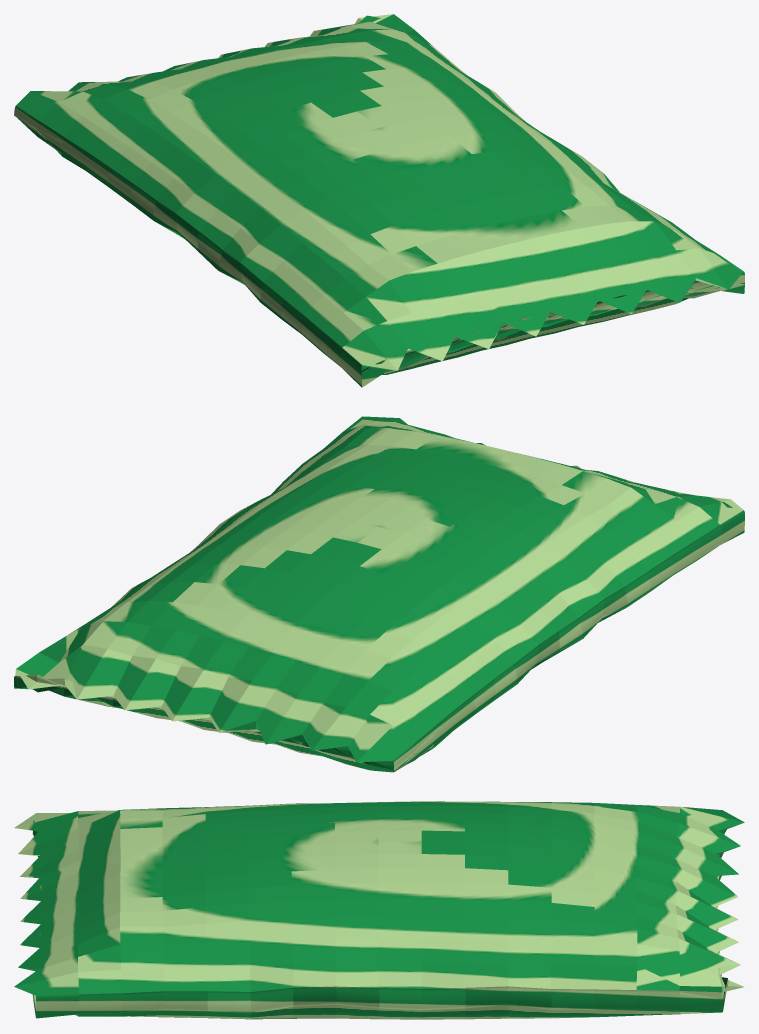
File: Fertilizer.fbx
The picture shows the model from 3 angles, top to bottom: view 1: azimuth 30°, elevation 25°; view 2: azimuth 150°, elevation 25°; view 3: azimuth 270°, elevation 25°; orthographic projection.
Visible parts, largest first — view 1: Bag; view 2: Bag; view 3: Bag.
Boxes of the visible parts, x1,y1,x2,y2 form: Bag: [14, 14, 744, 387]; Bag: [14, 416, 744, 772]; Bag: [14, 801, 744, 1019].
Bounding box in the file's own units: 512 × 177 × 858.
